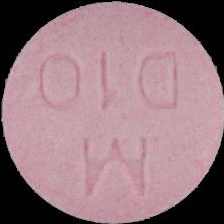55154-5659: (0, 0, 224, 224)
